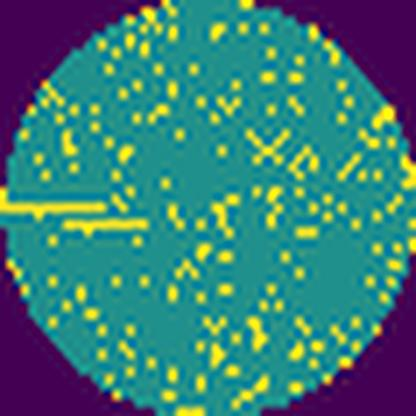Scratch: (0, 182, 109, 226), (59, 214, 155, 243)
